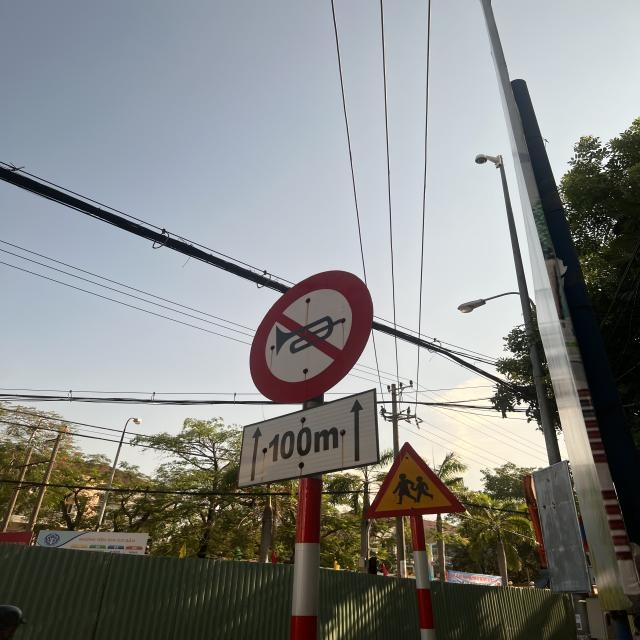bien_cam: (248, 269, 375, 405), (237, 388, 379, 488), (365, 442, 469, 520)
